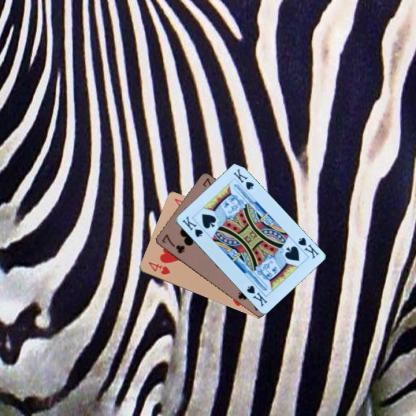4h: (146, 259, 171, 276)
7c: (160, 232, 186, 254)
Ks: (295, 235, 320, 260), (180, 213, 204, 239)
